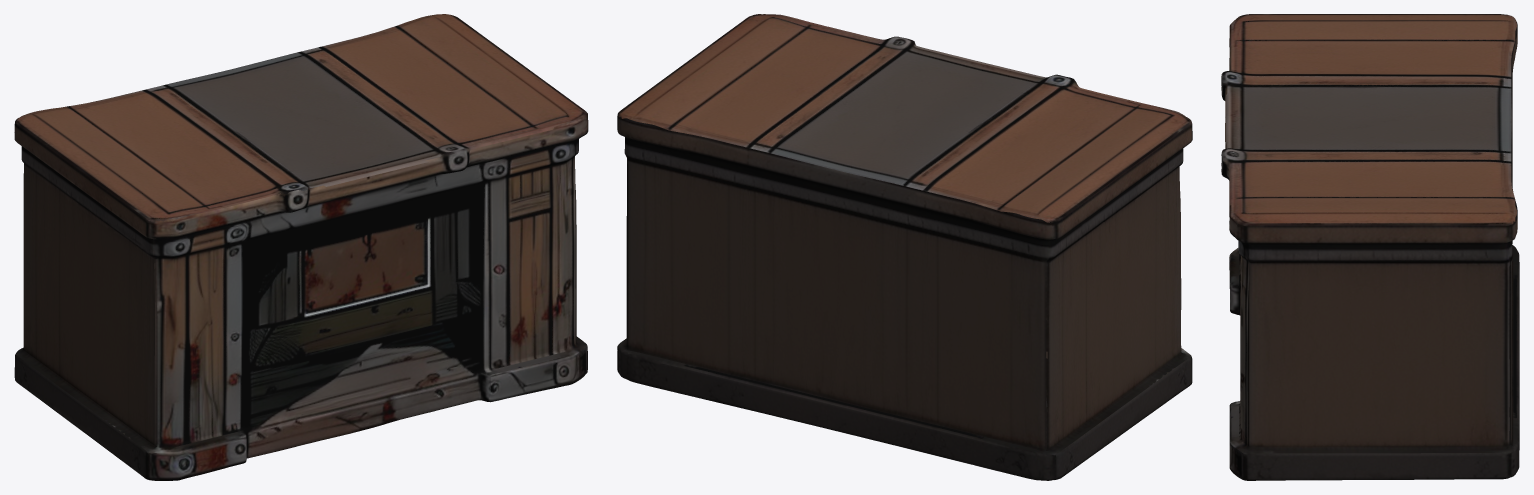
File: catalog-bench-5.glb
3 views of the same model, side by side, from view 1: azimuth 30°, elevation 25°; view 2: azimuth 150°, elevation 25°; view 3: azimuth 270°, elevation 25° (orthographic). The views are drawn at different scales.
Visible parts, largest first — view 1: tmpxhjg67r7.ply; view 2: tmpxhjg67r7.ply; view 3: tmpxhjg67r7.ply.
Part boxes in pixels (<box>): tmpxhjg67r7.ply: <box>14,14,588,480</box>; tmpxhjg67r7.ply: <box>617,14,1192,480</box>; tmpxhjg67r7.ply: <box>1221,14,1519,480</box>.
Size of the model in its own units: 1.96 by 1.13 by 1.16.
1 material, 1 textured.
